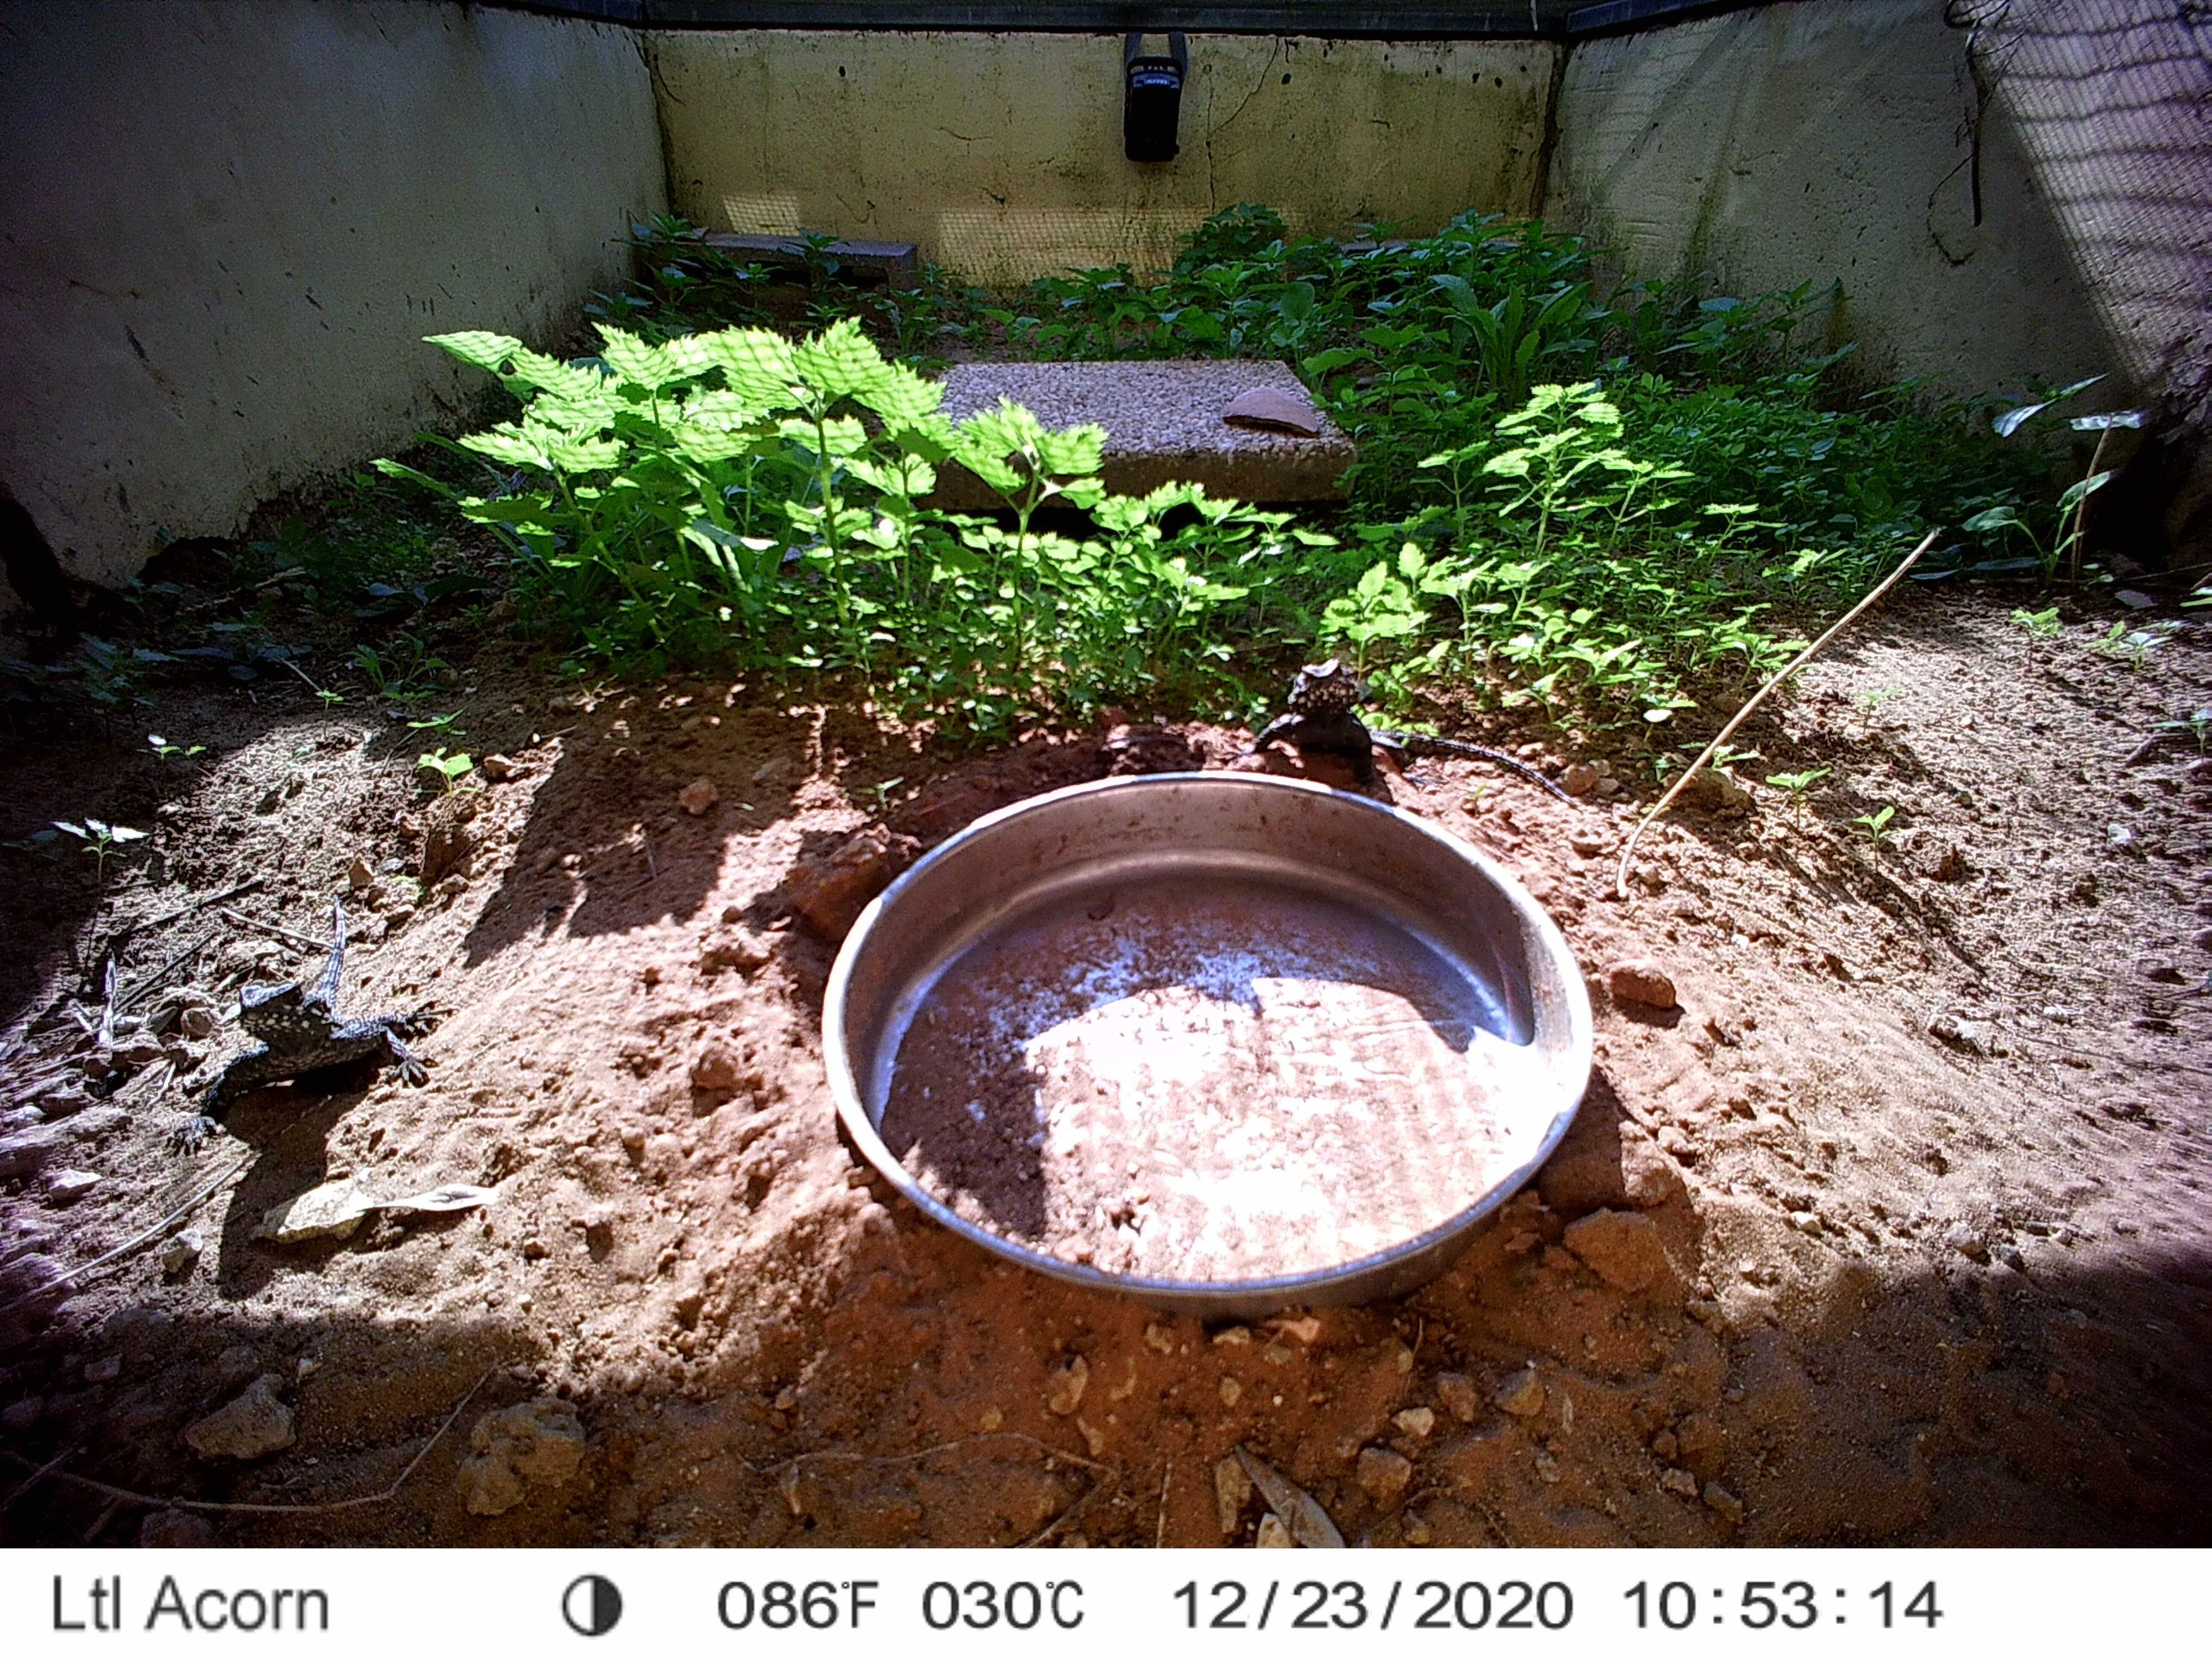lizard: (160, 892, 448, 1159), (1251, 659, 1597, 802)
